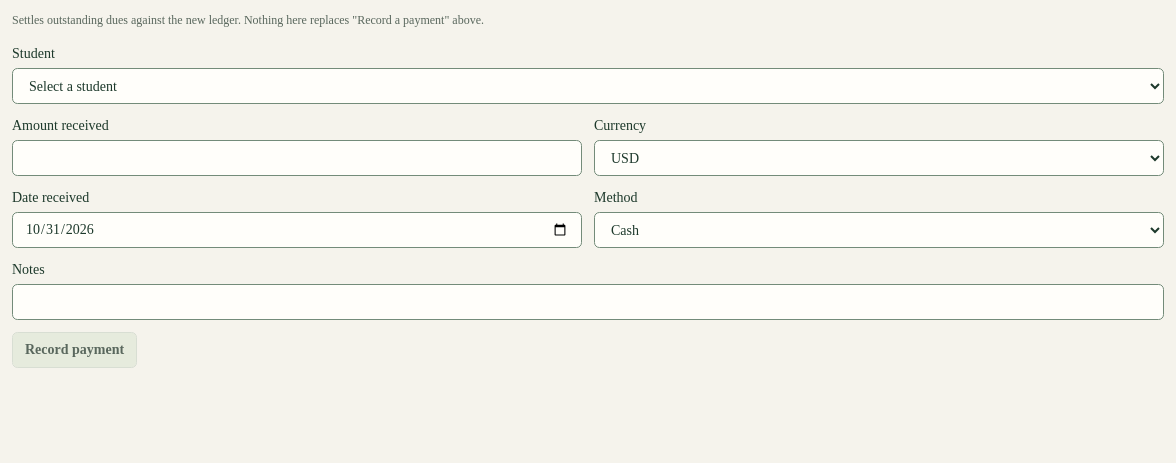
Scenario: fresh submission outcomes › a fresh settlement renders success copy and clears the stored attempt
The width and height of the screenshot is (1176, 463).
Select "Ana Soto — Alliance" in the dropdown labelled "Student" at x=588, y=86, box 12,68 -> 1164,104
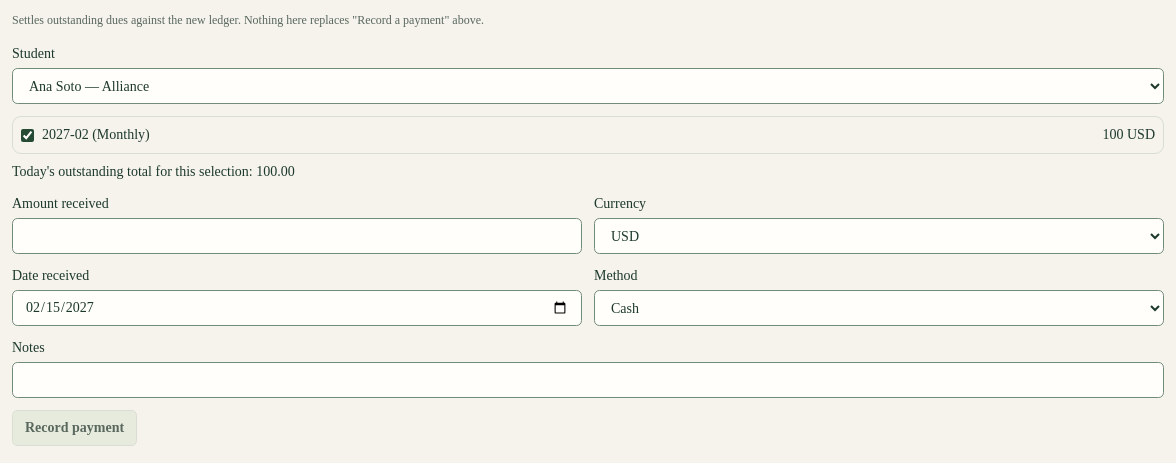
Type "100.00" into the field labelled "Amount received" at x=297, y=236, box 12,218 -> 582,254
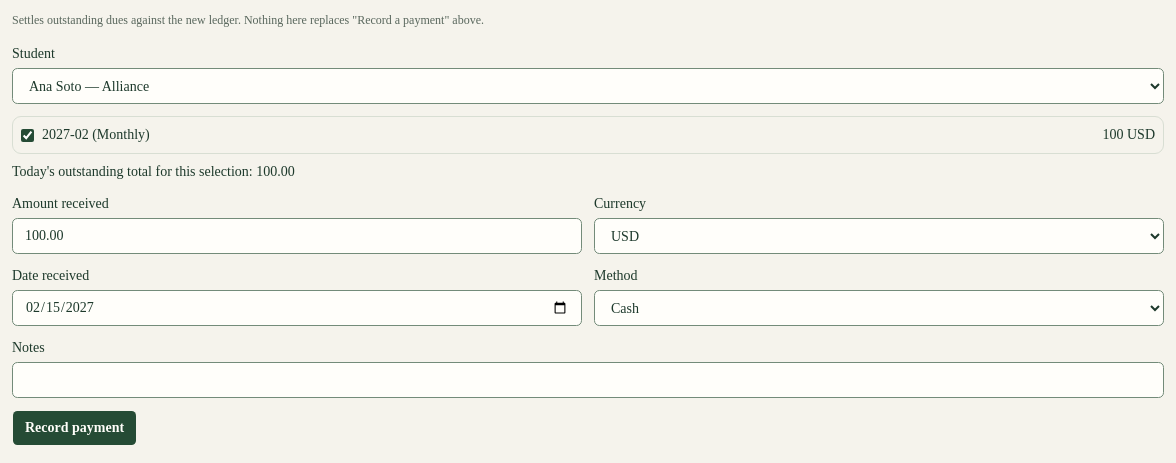
Click the button "Record payment" at x=75, y=428, box 12,410 -> 137,446
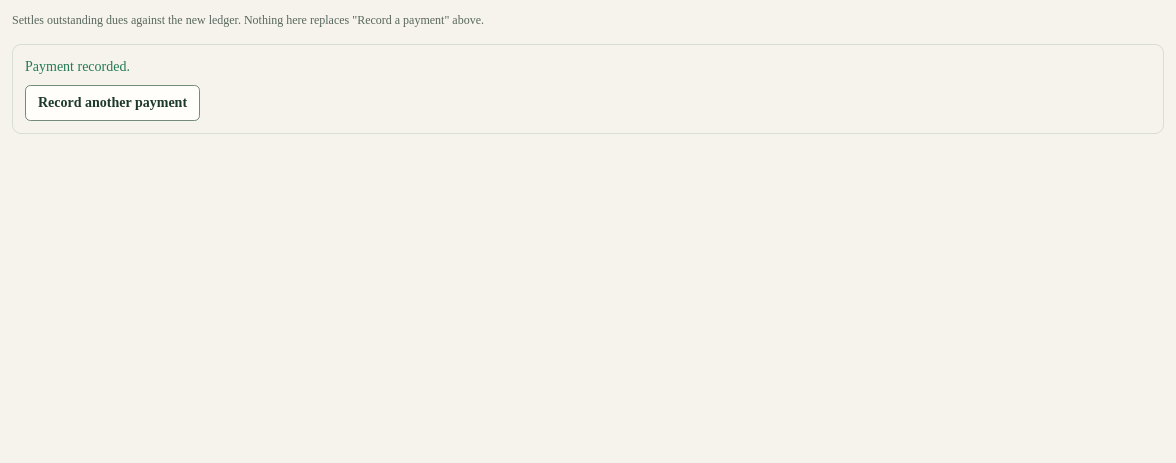
Expected: the text "Payment recorded." is shown, 25,59 -> 130,74
